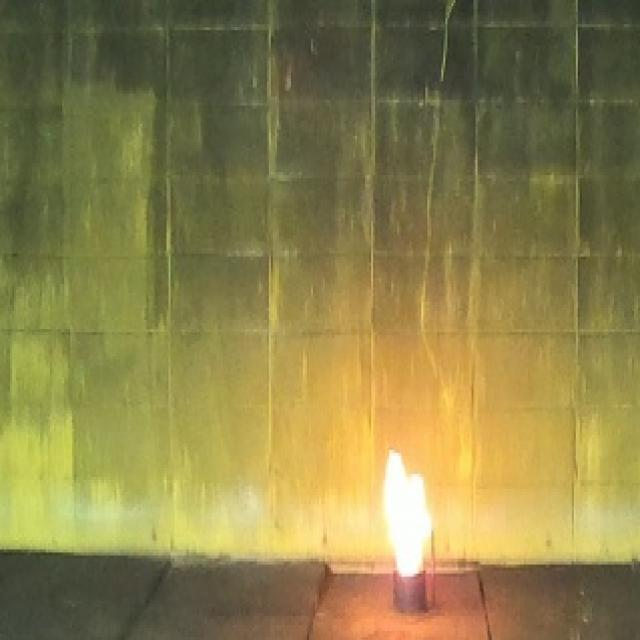Fire: (383, 448, 433, 578)
